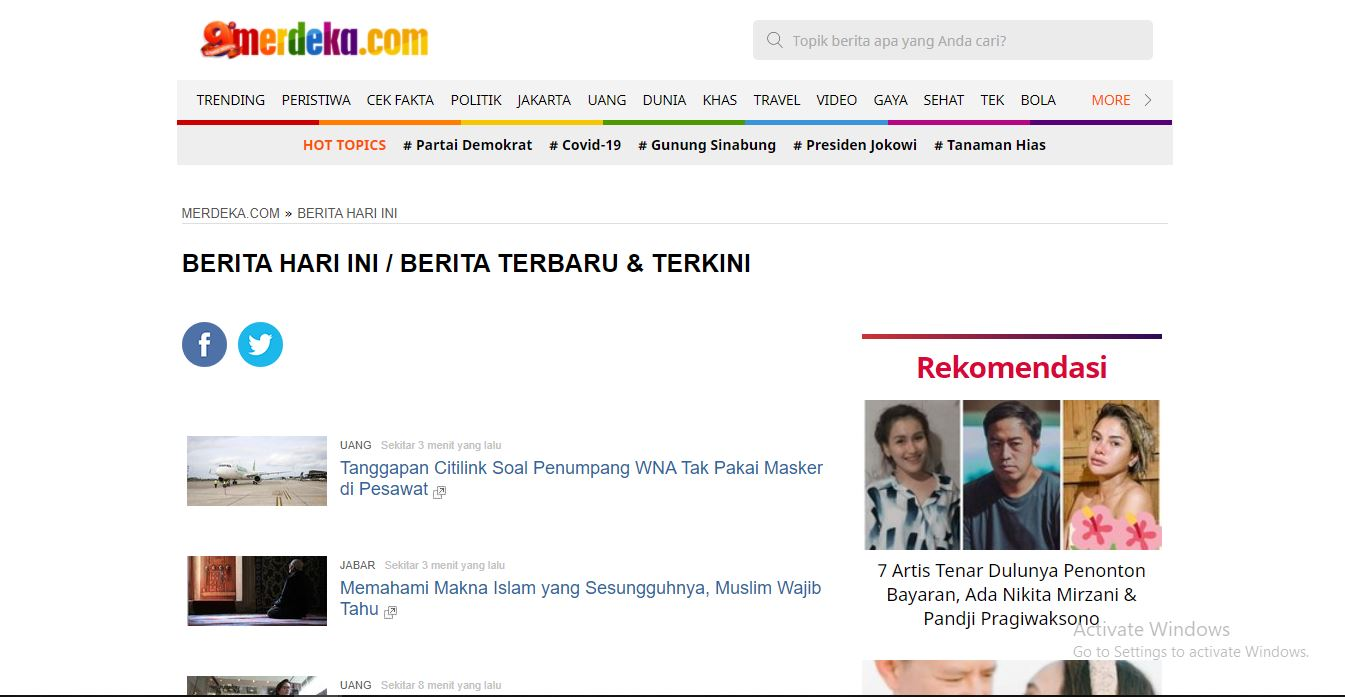Image: (184, 433, 333, 506), (193, 21, 445, 64), (188, 556, 328, 623)
Menu Bar: (176, 80, 1167, 127), (294, 124, 1049, 159)
Side Bar: (858, 318, 1169, 697)
Text Field: (794, 18, 1152, 57)
